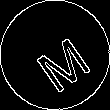M_NW: (22, 21, 88, 89)
